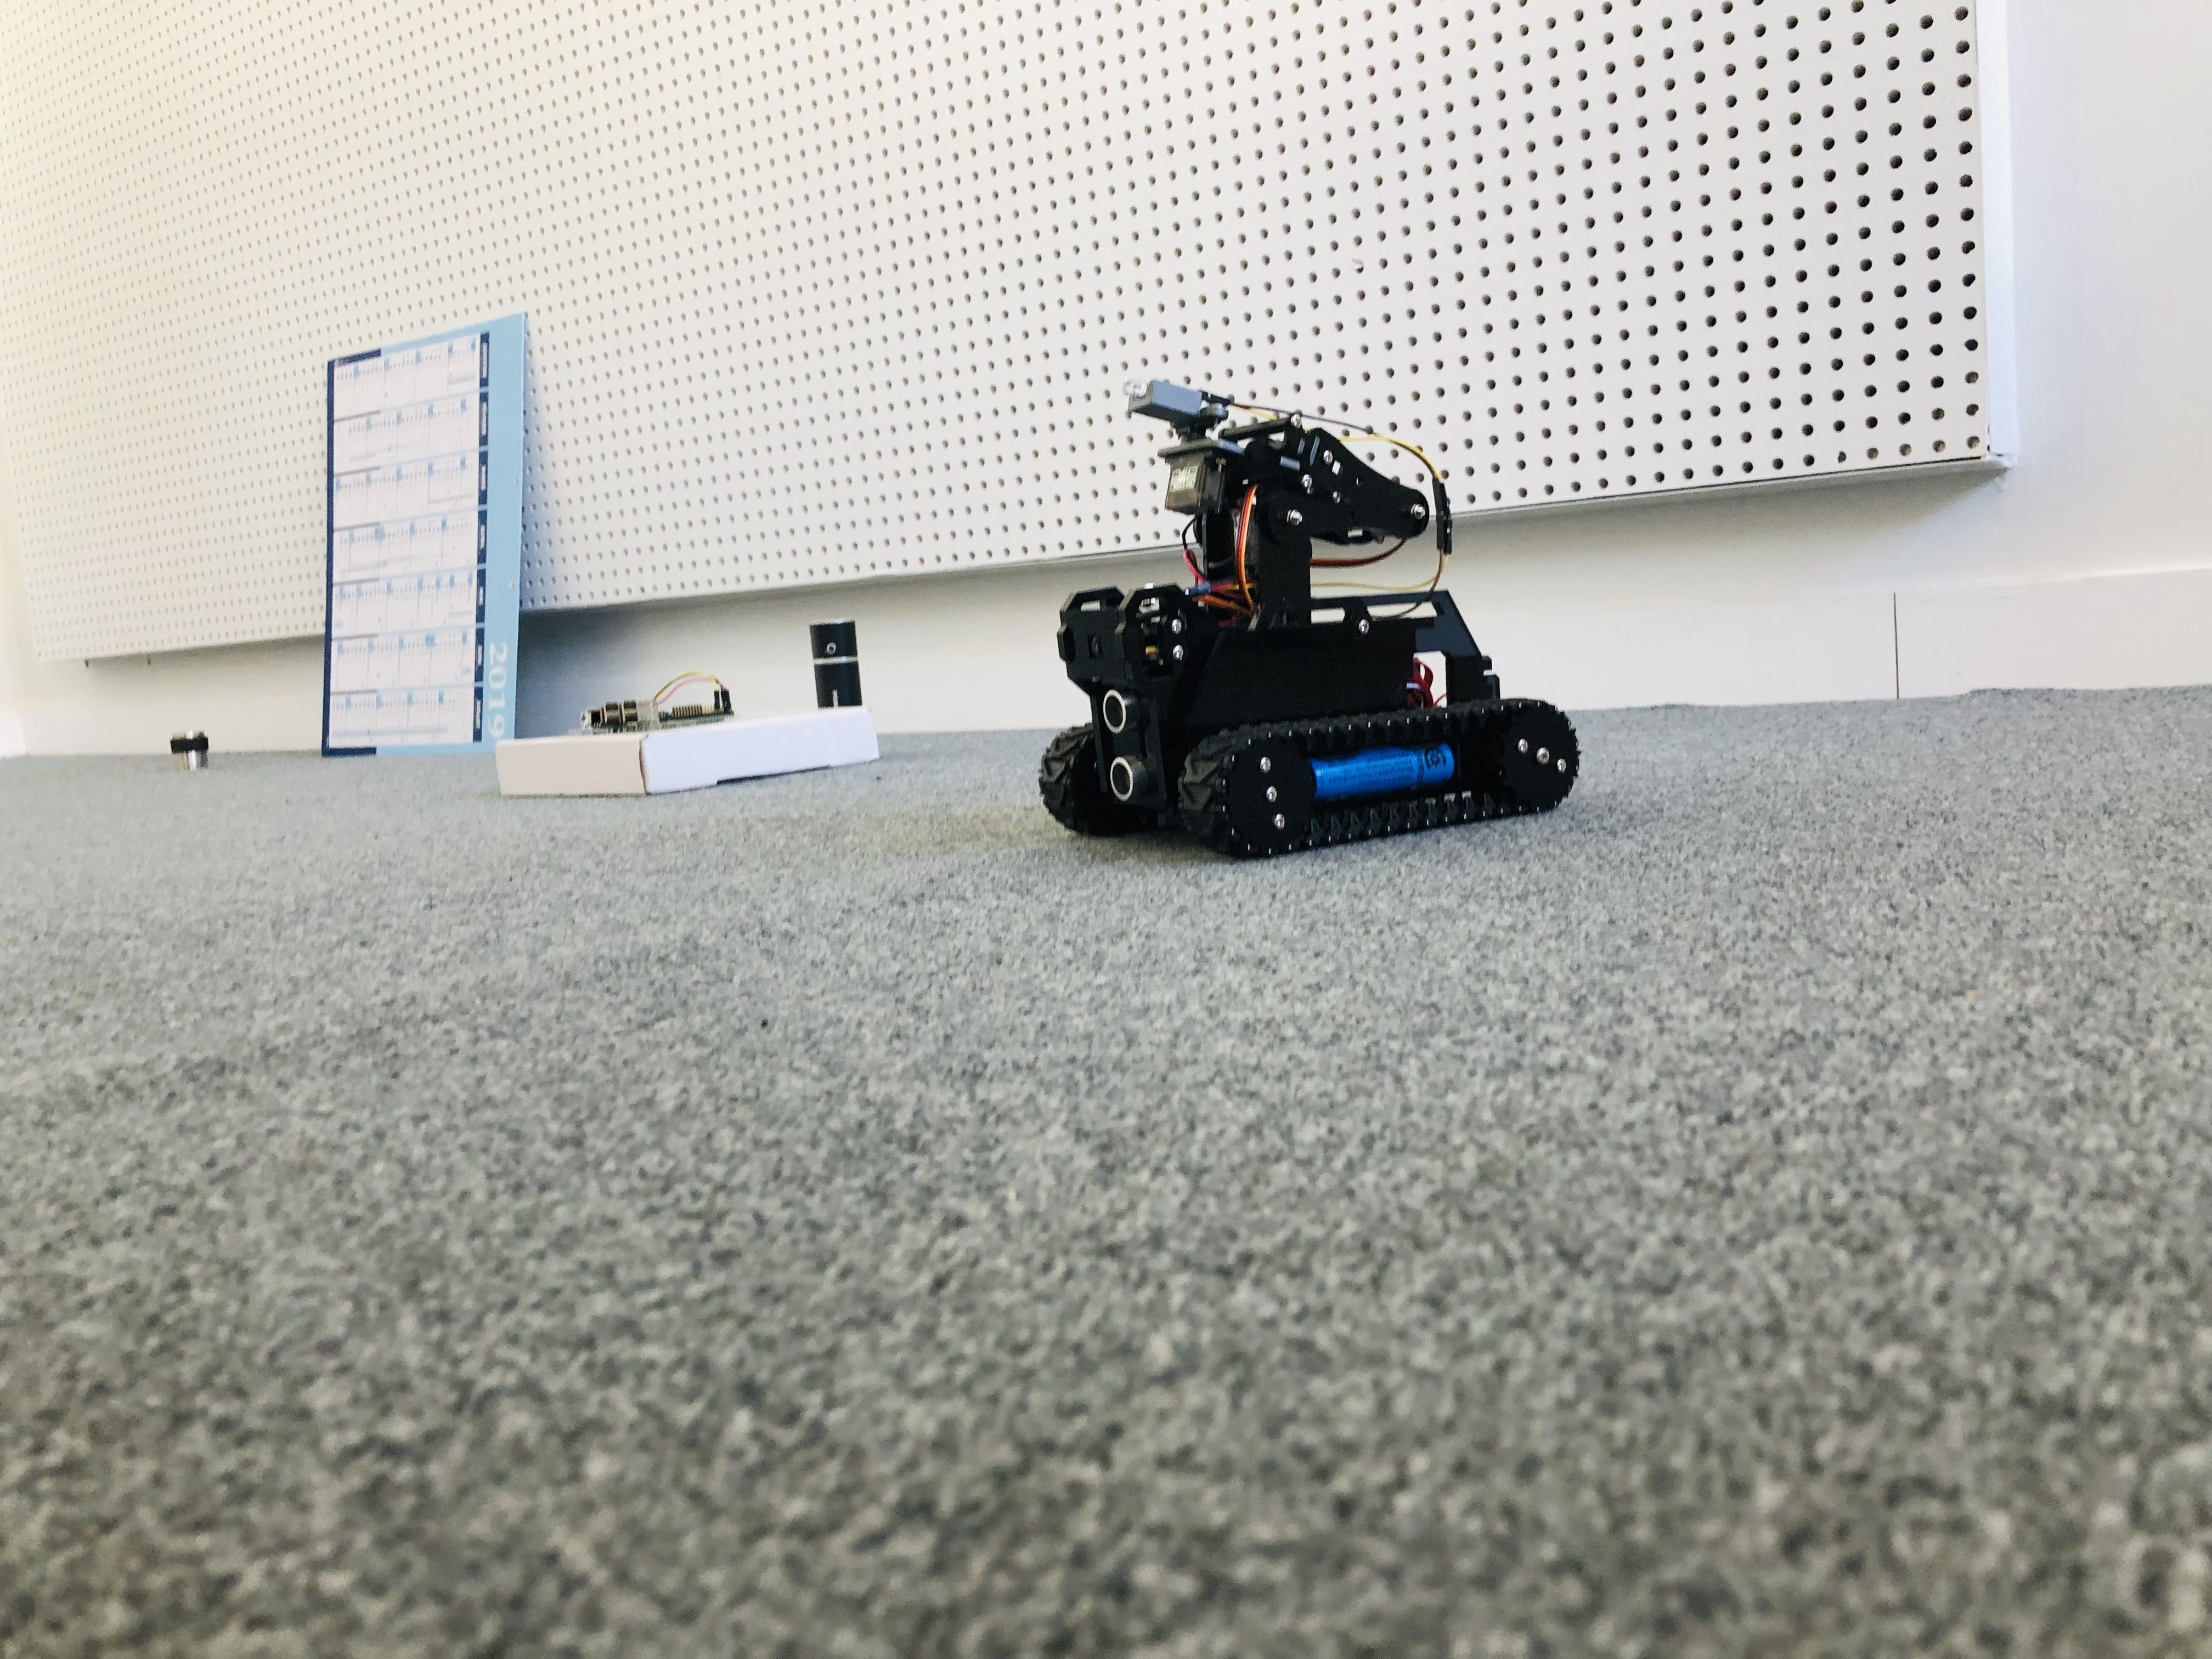rasptank: (1035, 378, 1594, 863)
